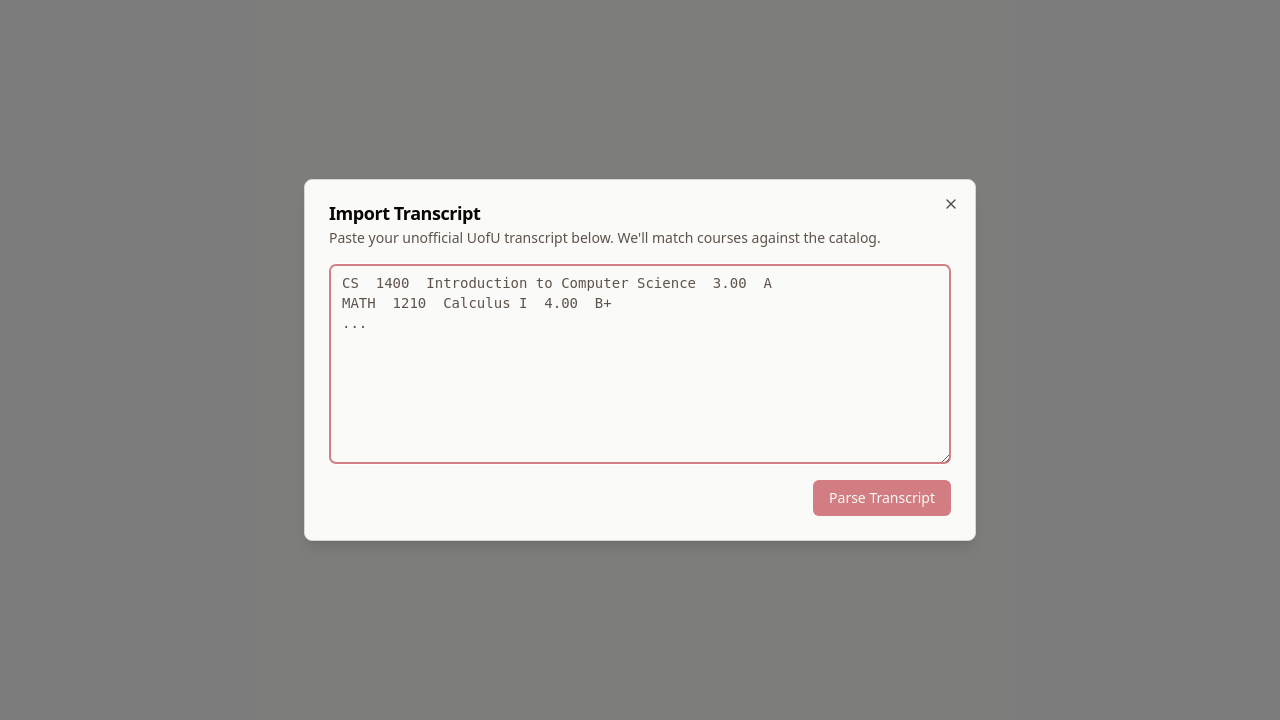
TranscriptImportModal › enables Parse button when text is entered
Replace the text in the text box with "CS  1400  Intro  3.00  A" at (640, 364), box [329,264,951,464]
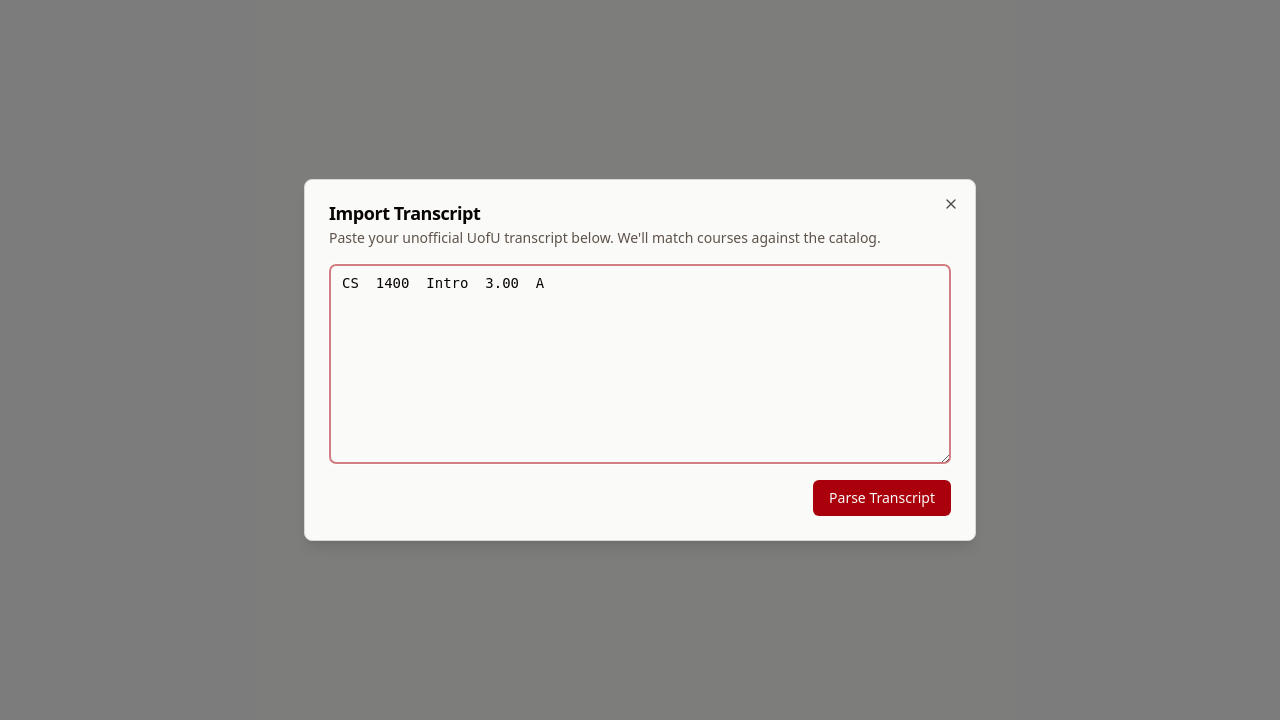
expect the button "Parse Transcript" is enabled: met, box [813,480,951,516]
